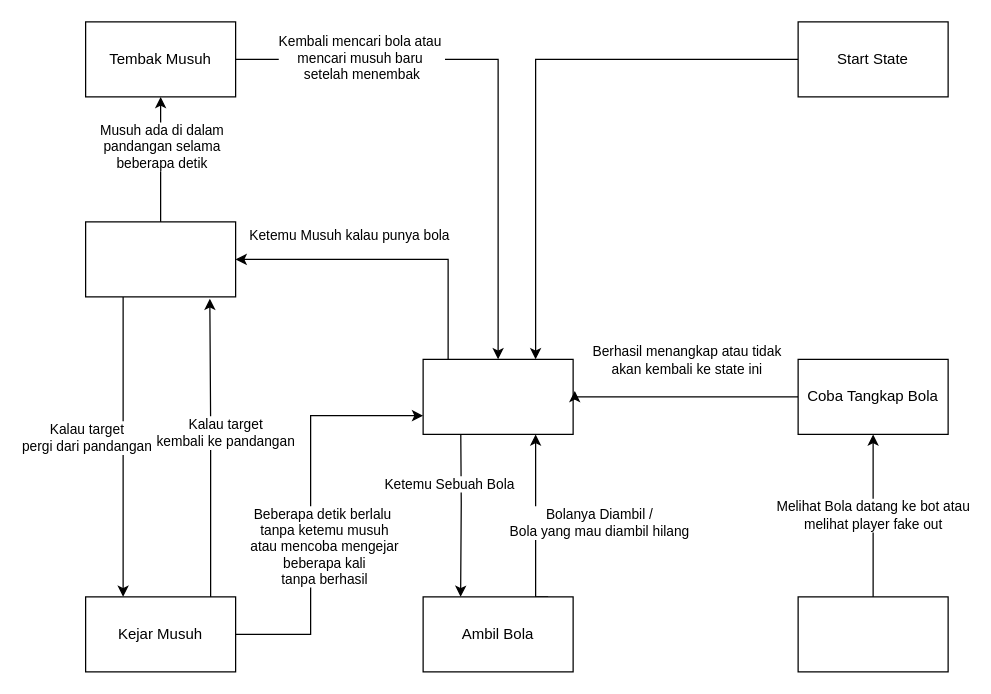
Image size: 991x694. Some labels were removed from this diagram. The centre of each missing label's shape, as x and y in pixels:
Bidik Musuh: (160,259)
Mencari Bola / Mencari Musuh: (497,396)
State apapun: (872,634)
